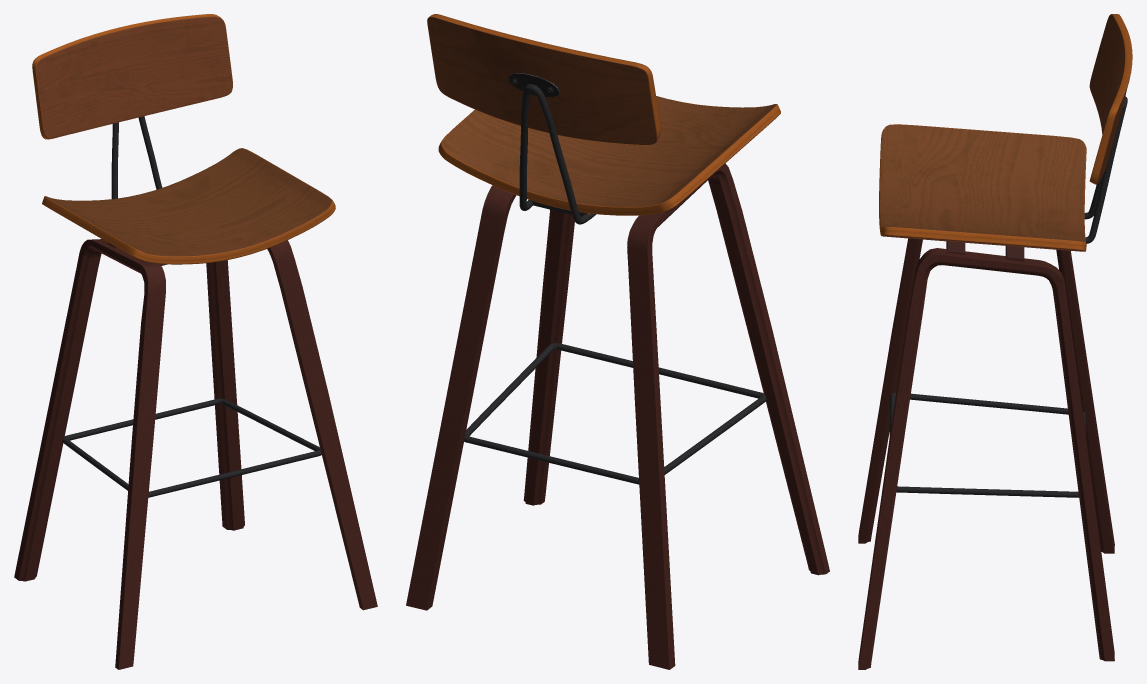
The model's file is stool_B075Z9QBLL.glb.
3 renders of one model, left to right at view 1: azimuth 30°, elevation 25°; view 2: azimuth 150°, elevation 25°; view 3: azimuth 270°, elevation 25°, orthographic. The views are drawn at different scales.
Visible parts, largest first — view 1: RootNode; view 2: RootNode; view 3: RootNode.
Boxes of the visible parts, x1=… form: RootNode: x1=14, y1=14, x2=377, y2=669; RootNode: x1=406, y1=14, x2=829, y2=669; RootNode: x1=858, y1=14, x2=1132, y2=669.
Bounding box in the file's own units: 0.509 × 0.9687 × 0.4401.
Materials: 1 (1 with a texture image).
